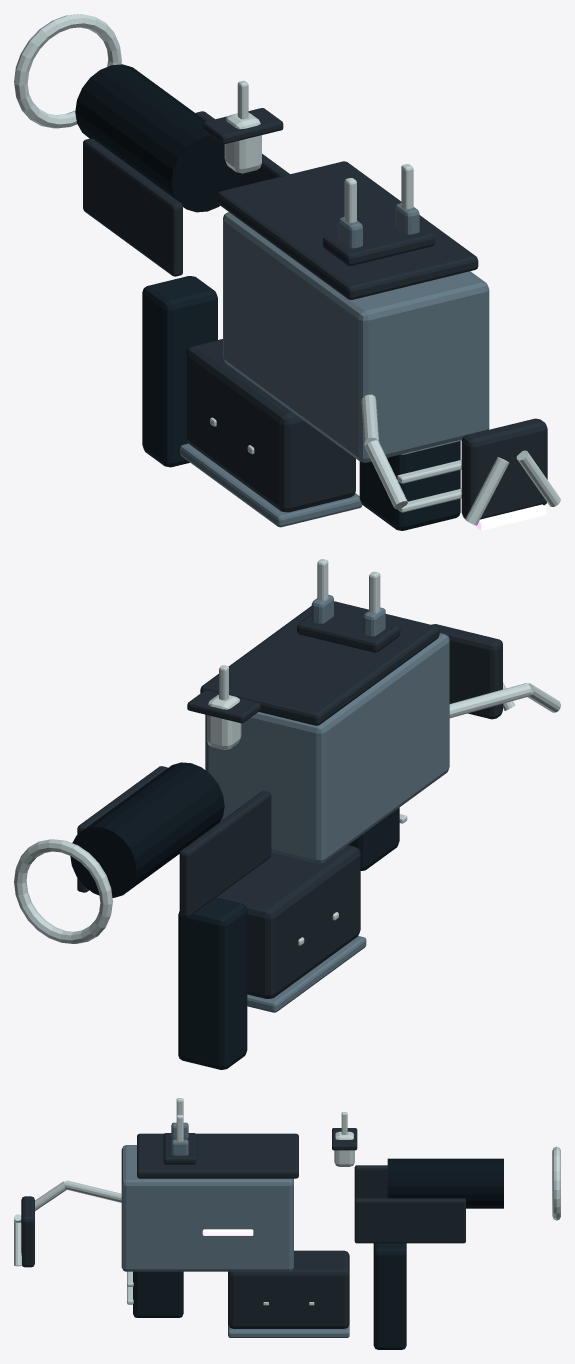
The model's file is weapon-9.glb.
3 renders of one model, top to bottom at view 1: azimuth 30°, elevation 25°; view 2: azimuth 150°, elevation 25°; view 3: azimuth 270°, elevation 25°, orthographic. The views are drawn at different scales.
Visible parts, largest first — view 1: body-light, body-dark, feed-dark, body-rubber, barrel-assembly-cavity, body-trim, feed-light, body-glow; view 2: body-light, body-dark, feed-dark, body-rubber, barrel-assembly-cavity, body-trim, feed-light; view 3: body-light, body-dark, feed-dark, body-rubber, barrel-assembly-cavity, body-trim, feed-light, body-glow.
Boxes of the visible parts, box(x1,y1,x2,y2) form: body-light: box(223, 203, 489, 462); body-dark: box(83, 108, 547, 519); feed-dark: box(186, 339, 355, 512); body-rubber: box(142, 276, 460, 530); barrel-assembly-cavity: box(75, 64, 242, 212); body-trim: box(14, 14, 560, 525); feed-light: box(180, 443, 362, 527); body-glow: box(477, 504, 546, 530); body-light: box(205, 594, 449, 863); body-dark: box(77, 601, 502, 917); feed-dark: box(216, 845, 360, 998); body-rubber: box(178, 807, 399, 1069); barrel-assembly-cavity: box(70, 762, 224, 897); body-trim: box(14, 559, 560, 943); feed-light: box(247, 936, 366, 1012); body-light: box(121, 1122, 293, 1271); body-dark: box(21, 1128, 465, 1267); feed-dark: box(228, 1250, 349, 1328); body-rubber: box(133, 1243, 406, 1349); barrel-assembly-cavity: box(387, 1158, 503, 1208); body-trim: box(14, 1098, 560, 1304); feed-light: box(228, 1324, 349, 1337); body-glow: box(17, 1229, 253, 1268).
Size of the model in its own units: 0.2455 by 0.532 by 1.08.
